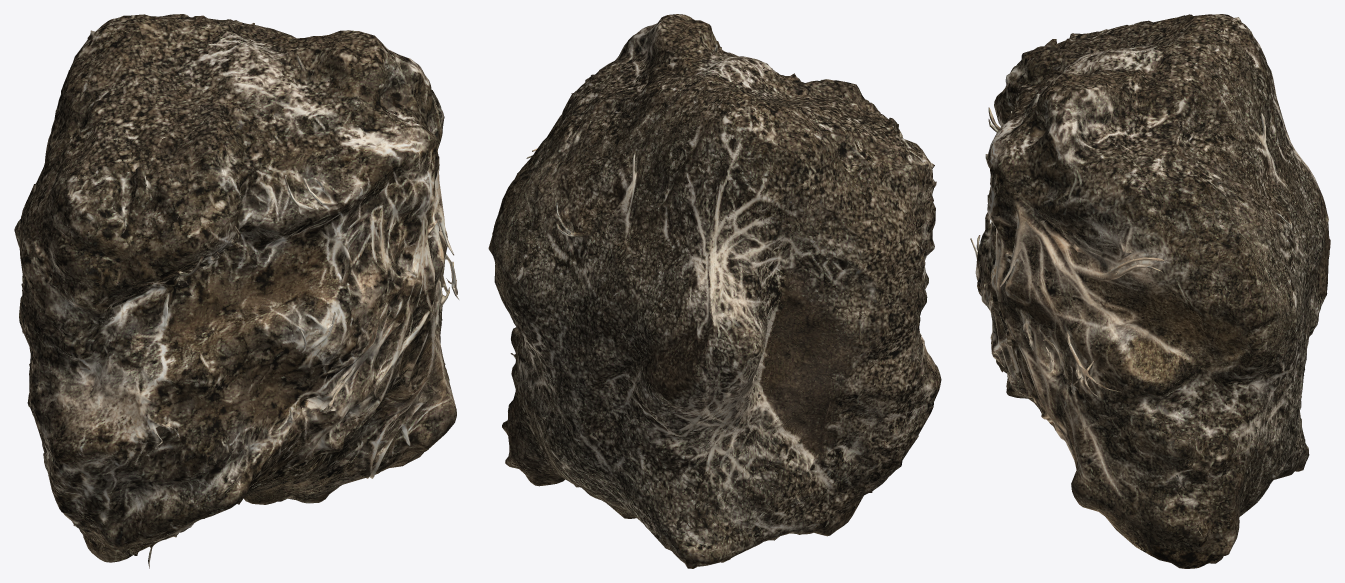
File: biochar.glb
3 views of the same model, side by side, from view 1: azimuth 30°, elevation 25°; view 2: azimuth 150°, elevation 25°; view 3: azimuth 270°, elevation 25° (orthographic). The views are drawn at different scales.
Visible parts, largest first — view 1: Mesh_0; view 2: Mesh_0; view 3: Mesh_0.
Part boxes in pixels (bbox=[...]): Mesh_0: bbox=[14, 14, 458, 568]; Mesh_0: bbox=[488, 14, 941, 568]; Mesh_0: bbox=[970, 14, 1330, 568].
Bounding box in the file's own units: 1.75 × 1.91 × 1.38.
1 material, 1 textured.
